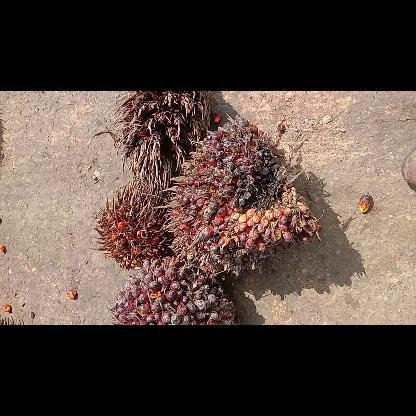Janjang kosong: (100, 92, 222, 192)
Kurang masak: (108, 256, 240, 324)
TBS masak: (154, 112, 322, 286)
Terlalu masak: (88, 178, 174, 272)
